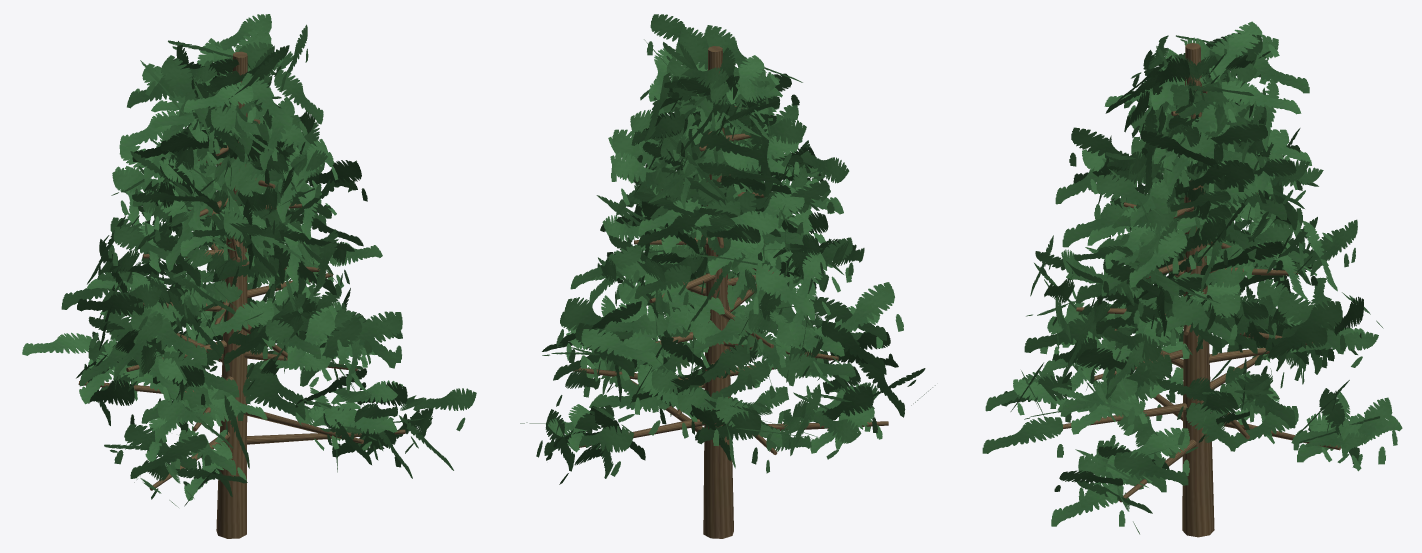
The picture shows the model from 3 angles, left to right: view 1: azimuth 30°, elevation 25°; view 2: azimuth 150°, elevation 25°; view 3: azimuth 270°, elevation 25°; orthographic projection.
Parts seen in each view (by area): view 1: pine-needle, pine-bark; view 2: pine-needle, pine-bark; view 3: pine-needle, pine-bark.
Boxes of the visible parts, x1=… form: pine-needle: x1=22, y1=14, x2=476, y2=507; pine-bark: x1=78, y1=51, x2=405, y2=538; pine-needle: x1=520, y1=14, x2=935, y2=484; pine-bark: x1=573, y1=46, x2=888, y2=538; pine-needle: x1=982, y1=21, x2=1402, y2=534; pine-bark: x1=1063, y1=43, x2=1340, y2=537.
Bounding box in the file's own units: 7.62 × 10.38 × 8.09.
2 materials, 2 textured.
